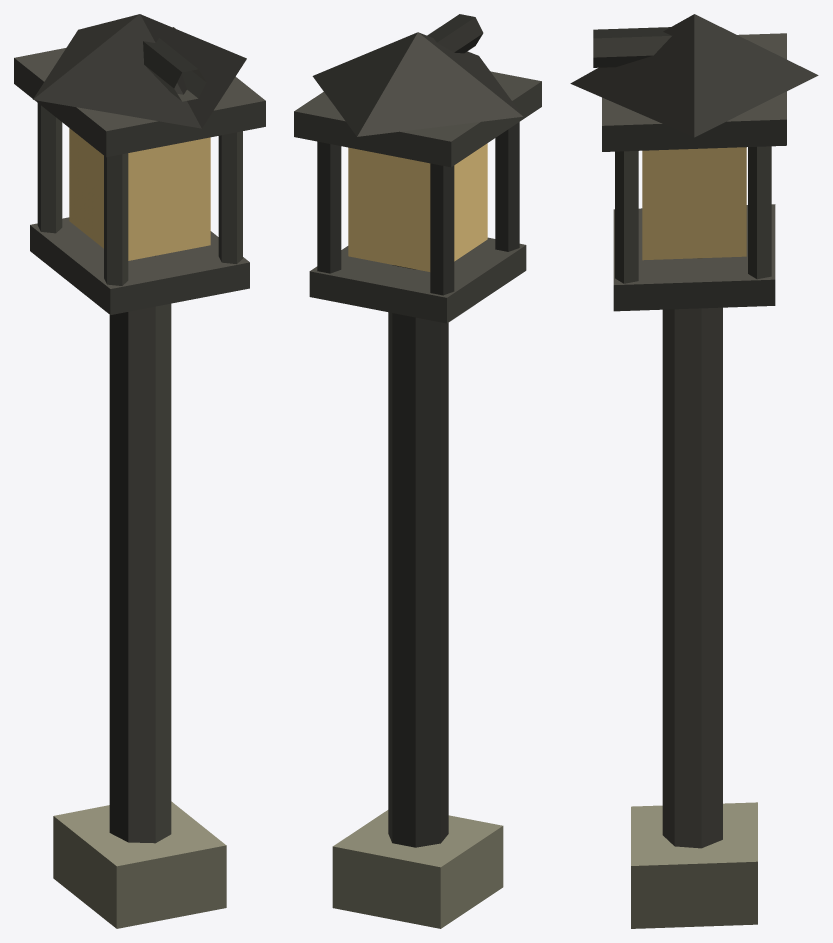
The picture shows the model from 3 angles, left to right: view 1: azimuth 30°, elevation 25°; view 2: azimuth 150°, elevation 25°; view 3: azimuth 270°, elevation 25°; orthographic projection. The views are drawn at different scales.
Visible parts, largest first — view 1: e8fc4909f0009c96e4ba586a1e261d2b20c00dac07702925c89c6f49f771; view 2: e8fc4909f0009c96e4ba586a1e261d2b20c00dac07702925c89c6f49f771; view 3: e8fc4909f0009c96e4ba586a1e261d2b20c00dac07702925c89c6f49f771.
Boxes of the visible parts, bbox=[...] form: e8fc4909f0009c96e4ba586a1e261d2b20c00dac07702925c89c6f49f771: bbox=[14, 14, 265, 928]; e8fc4909f0009c96e4ba586a1e261d2b20c00dac07702925c89c6f49f771: bbox=[294, 14, 541, 928]; e8fc4909f0009c96e4ba586a1e261d2b20c00dac07702925c89c6f49f771: bbox=[570, 14, 818, 928].
Size of the model in its own units: 0.86 by 3.39 by 0.86.
2 materials, 1 textured.
